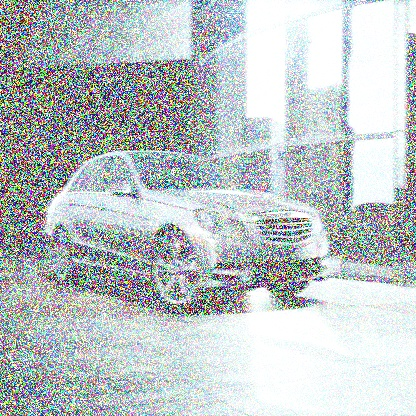Vehicle: (43, 150, 333, 316)
